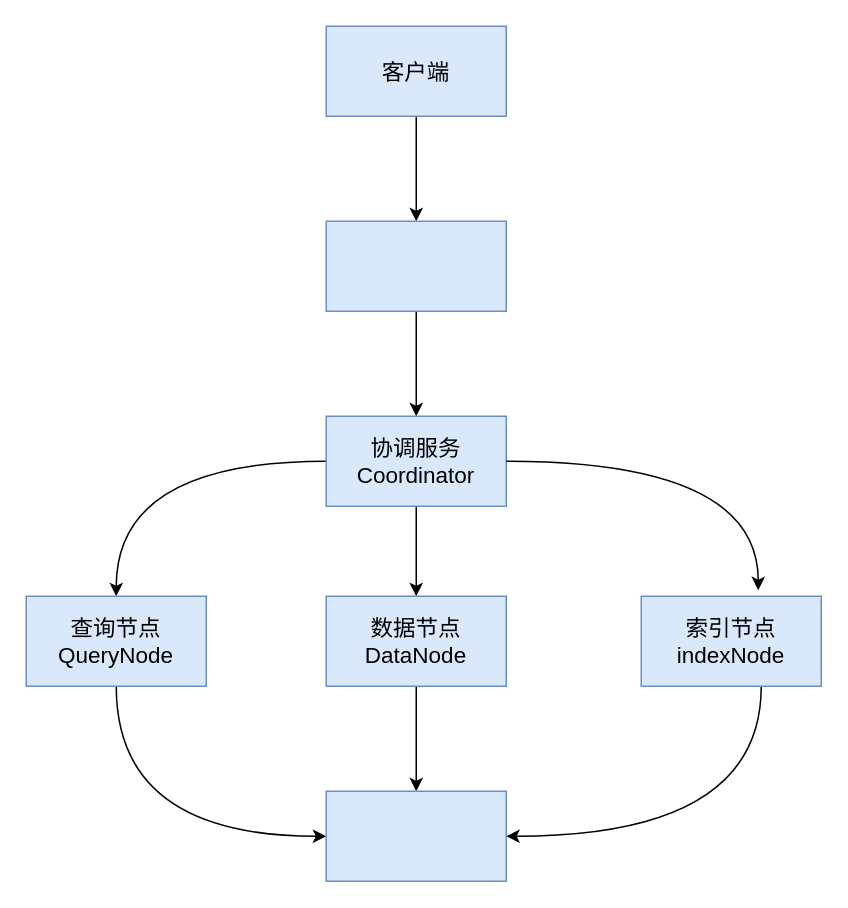
The diagram is 848 pixels wide and 908 high, and some of its shapes have lost their labels. The box of each missing label's shape, as (x1, y1, x2, y2) in pixels:
对象存储 MinIO/S3: (325, 790, 506, 881)
接入层 Proxy: (325, 220, 506, 311)
